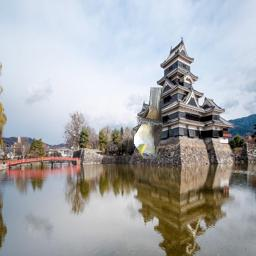Cuckoo: (133, 87, 163, 159)
